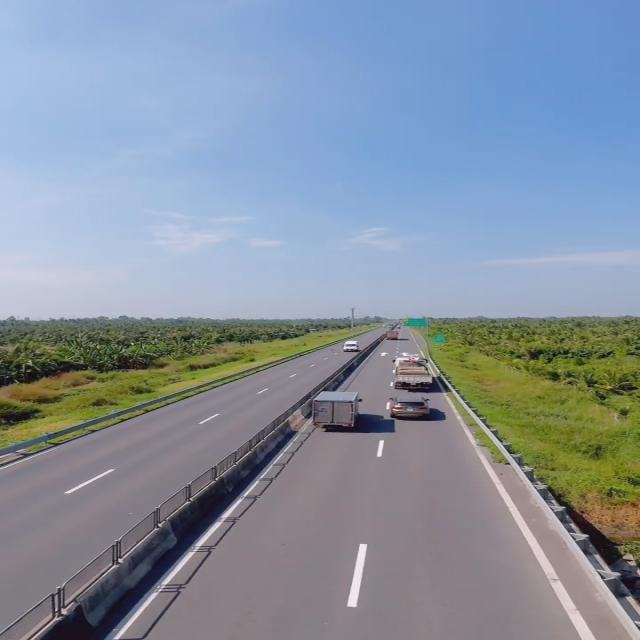car: (386, 391, 432, 419)
truck: (389, 350, 439, 390), (316, 392, 364, 432)
